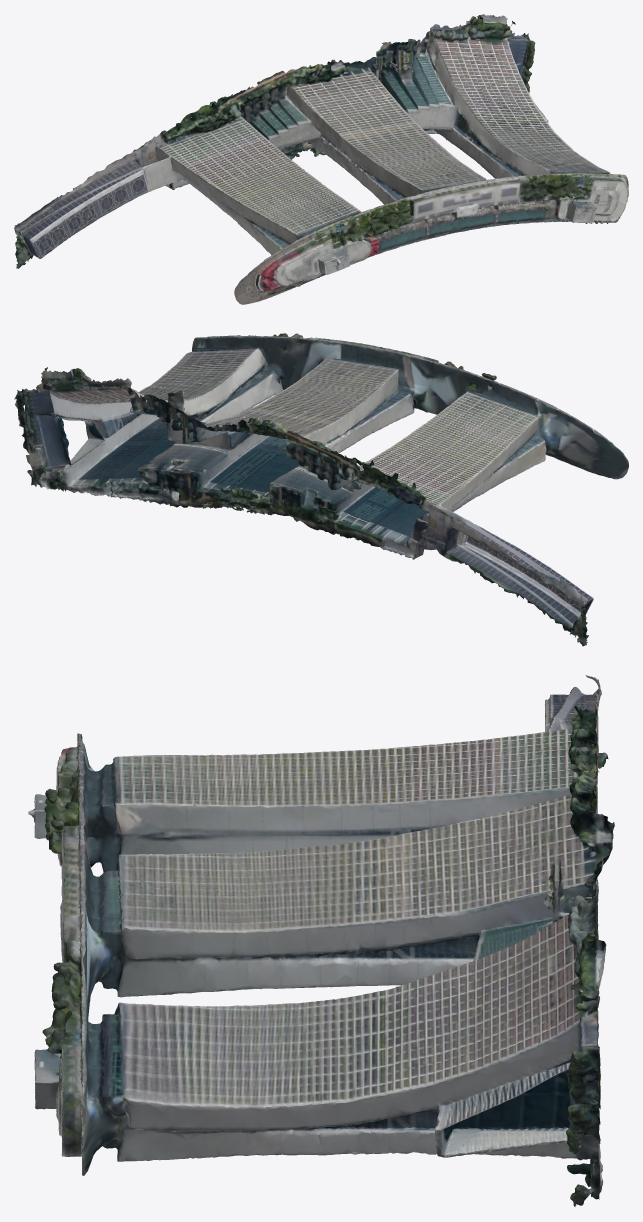
File: MBS.obj
3 renders of one model, top to bottom at view 1: azimuth 30°, elevation 25°; view 2: azimuth 150°, elevation 25°; view 3: azimuth 270°, elevation 25°, orthographic. The views are drawn at different scales.
Parts seen in each view (by area): view 1: 171_Mesh_Model_4.001, 171_Mesh_Model_1.001, 171_Mesh_Model_3.001, 171_Mesh_Model_5.001, 171_Mesh_Model_0.001, 171_Mesh_Model_2.001, 171_Mesh_Model_6.001, 171_Mesh_Model_7.001; view 2: 171_Mesh_Model_4.001, 171_Mesh_Model_1.001, 171_Mesh_Model_2.001, 171_Mesh_Model_3.001, 171_Mesh_Model_5.001, 171_Mesh_Model_0.001, 171_Mesh_Model_6.001, 171_Mesh_Model_7.001; view 3: 171_Mesh_Model_4.001, 171_Mesh_Model_1.001, 171_Mesh_Model_3.001, 171_Mesh_Model_0.001, 171_Mesh_Model_2.001, 171_Mesh_Model_5.001, 171_Mesh_Model_6.001, 171_Mesh_Model_7.001.
Boxes of the visible parts, box(x1,y1,x2,y2) form: 171_Mesh_Model_4.001: box(17, 16, 620, 275); 171_Mesh_Model_1.001: box(18, 21, 628, 288); 171_Mesh_Model_3.001: box(14, 20, 549, 299); 171_Mesh_Model_5.001: box(15, 15, 628, 304); 171_Mesh_Model_0.001: box(15, 30, 624, 302); 171_Mesh_Model_2.001: box(199, 14, 585, 291); 171_Mesh_Model_6.001: box(16, 15, 608, 289); 171_Mesh_Model_7.001: box(15, 21, 610, 290); 171_Mesh_Model_4.001: box(22, 336, 628, 627); 171_Mesh_Model_1.001: box(31, 337, 627, 612); 171_Mesh_Model_2.001: box(14, 334, 547, 521); 171_Mesh_Model_3.001: box(46, 338, 593, 646); 171_Mesh_Model_5.001: box(21, 333, 610, 621); 171_Mesh_Model_0.001: box(21, 335, 585, 608); 171_Mesh_Model_6.001: box(21, 333, 620, 636); 171_Mesh_Model_7.001: box(24, 333, 624, 638); 171_Mesh_Model_4.001: box(35, 675, 610, 1157); 171_Mesh_Model_1.001: box(28, 677, 611, 1161); 171_Mesh_Model_3.001: box(61, 679, 613, 1175); 171_Mesh_Model_0.001: box(35, 689, 601, 1171); 171_Mesh_Model_2.001: box(59, 728, 614, 1199); 171_Mesh_Model_5.001: box(33, 692, 605, 1186); 171_Mesh_Model_6.001: box(28, 693, 611, 1205); 171_Mesh_Model_7.001: box(35, 690, 614, 1206).
Bounding box in the file's own units: 101 × 26.38 × 49.4.
Materials: 8 (8 with a texture image).
